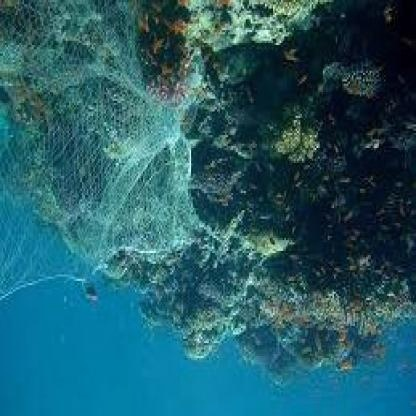net: (3, 2, 201, 266)
